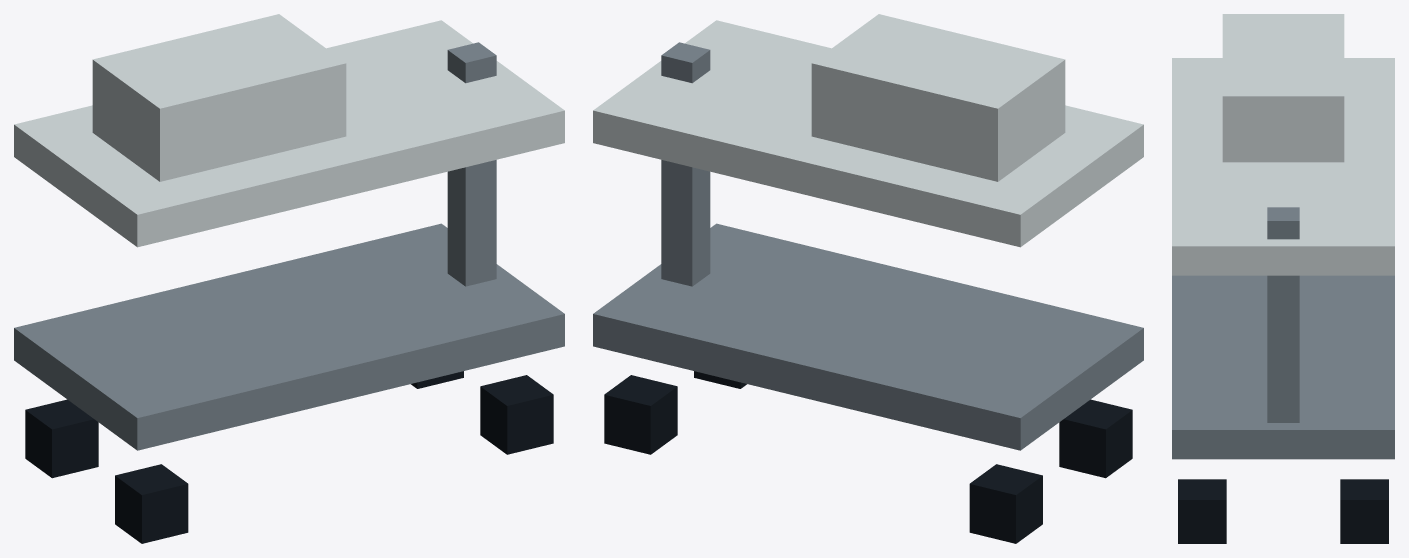
The model's file is np_z03_medical_chariot.glb.
3 views of the same model, side by side, from view 1: azimuth 30°, elevation 25°; view 2: azimuth 150°, elevation 25°; view 3: azimuth 270°, elevation 25° (orthographic). The views are drawn at different scales.
Visible parts, largest first — view 1: PlateauBas, PlateauHaut, Bac, Poignee, _MeshInstance3D_6, _MeshInstance3D_4, Roue; view 2: PlateauBas, PlateauHaut, Bac, Poignee, _MeshInstance3D_5, Roue, _MeshInstance3D_4; view 3: PlateauBas, PlateauHaut, Bac, Poignee, _MeshInstance3D_5, _MeshInstance3D_6.
Part boxes in pixels (bbox=[...]): PlateauBas: bbox=[14, 223, 564, 450]; PlateauHaut: bbox=[14, 20, 564, 247]; Bac: bbox=[92, 14, 346, 181]; Poignee: bbox=[447, 42, 496, 286]; _MeshInstance3D_6: bbox=[480, 375, 553, 454]; _MeshInstance3D_4: bbox=[115, 464, 188, 543]; Roue: bbox=[25, 399, 98, 478]; PlateauBas: bbox=[593, 223, 1143, 450]; PlateauHaut: bbox=[593, 20, 1143, 247]; Bac: bbox=[811, 14, 1065, 181]; Poignee: bbox=[661, 42, 710, 286]; _MeshInstance3D_5: bbox=[604, 375, 677, 454]; Roue: bbox=[969, 464, 1042, 543]; _MeshInstance3D_4: bbox=[1059, 399, 1132, 478]; PlateauBas: bbox=[1172, 275, 1394, 459]; PlateauHaut: bbox=[1172, 58, 1394, 275]; Bac: bbox=[1222, 14, 1344, 162]; Poignee: bbox=[1267, 207, 1299, 422]; _MeshInstance3D_5: bbox=[1340, 479, 1388, 543]; _MeshInstance3D_6: bbox=[1178, 479, 1226, 543].
Size of the model in its own units: 1.1 by 1 by 0.55.
